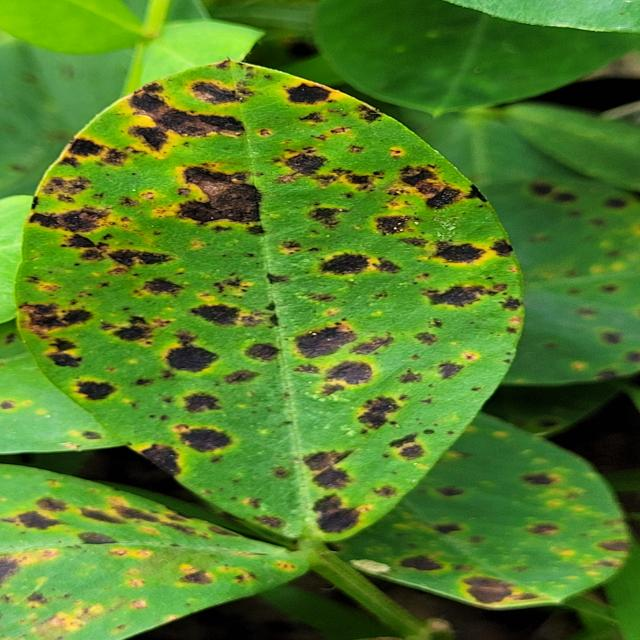Ground nut_tikka leaf spot: (0, 54, 522, 551), (0, 448, 318, 640)
